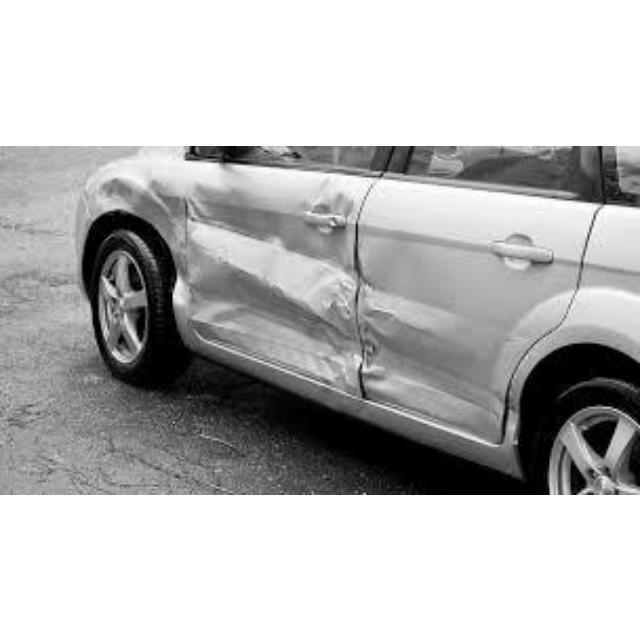doorouter-dent: (184, 160, 360, 389)
fender-dent: (87, 169, 181, 240)
